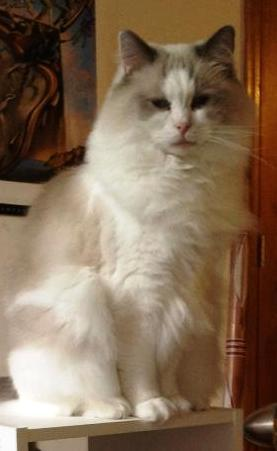ragdoll: (109, 15, 254, 169)
